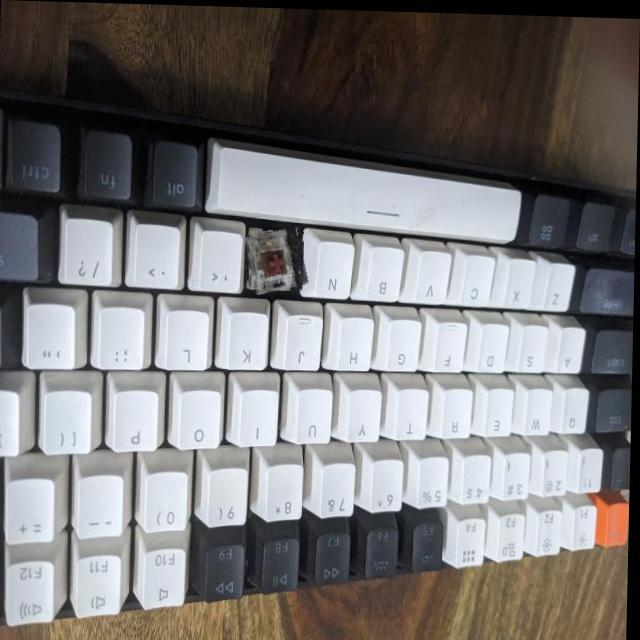key-switch: (246, 226, 307, 291)
